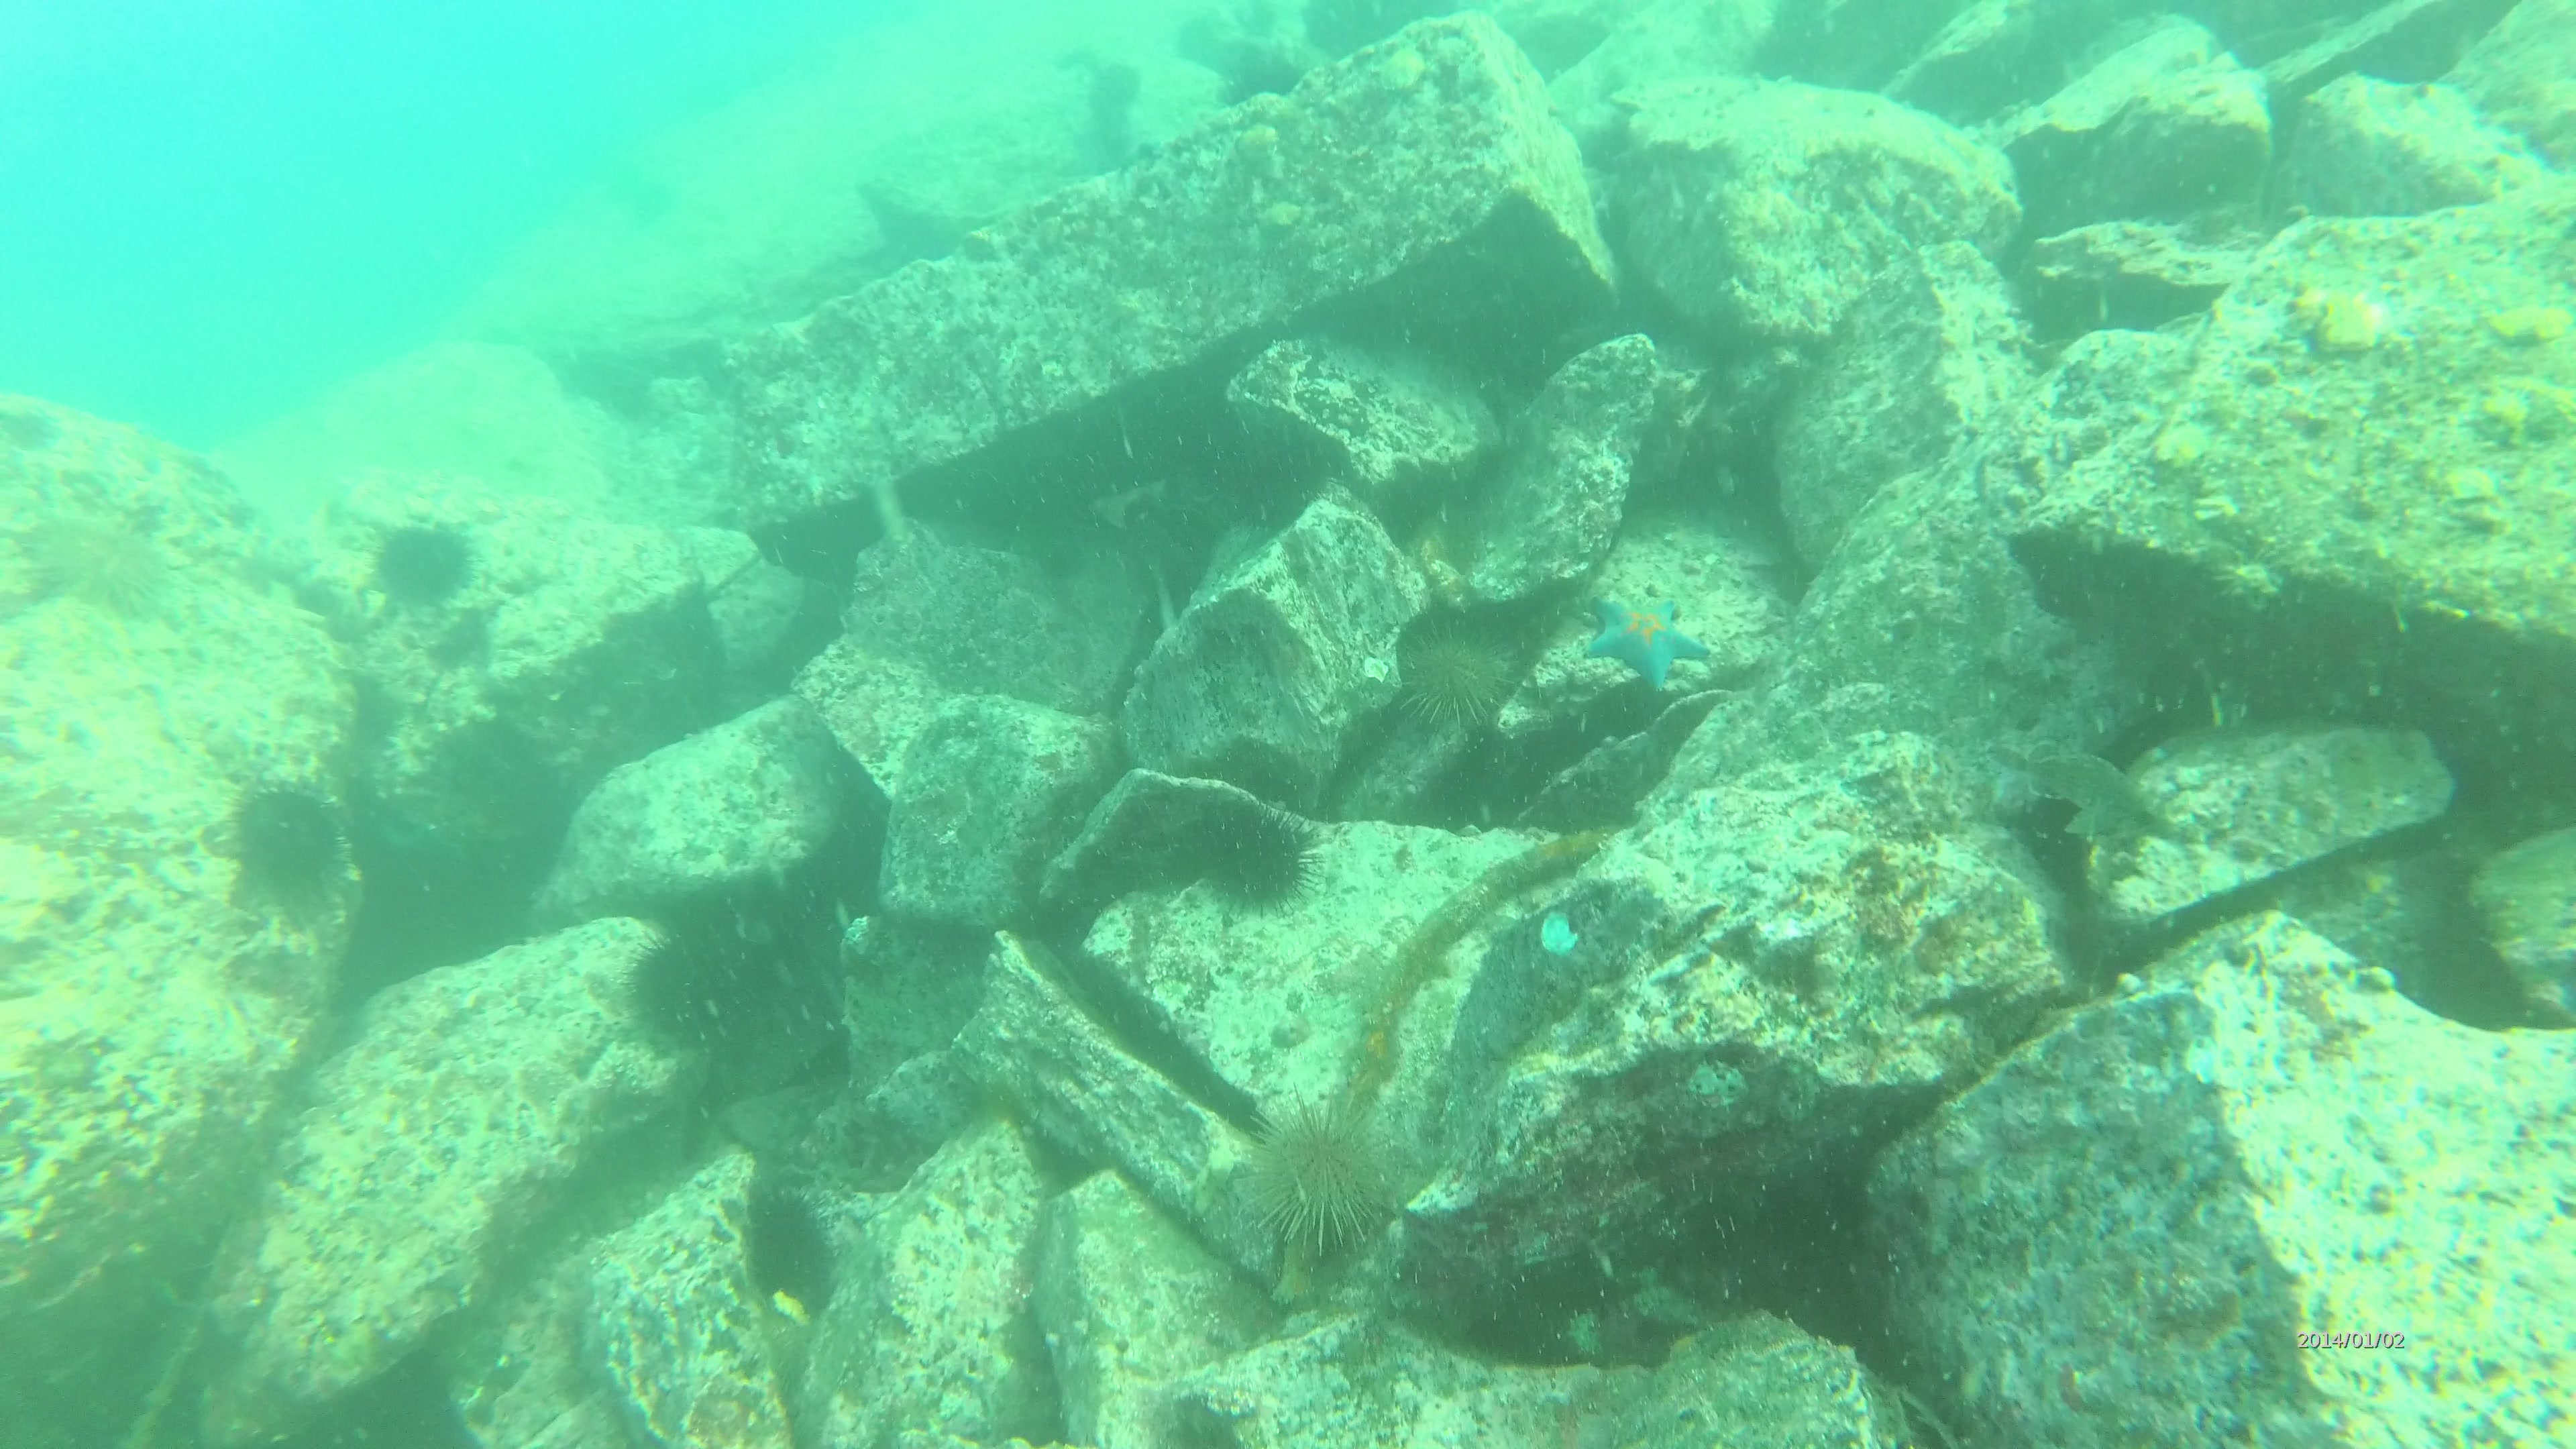echinus: (1238, 1086, 1376, 1244), (23, 476, 170, 619), (1207, 805, 1315, 906), (630, 934, 748, 1021), (228, 786, 336, 879), (363, 511, 471, 600), (736, 1196, 823, 1293)
starfish: (1591, 573, 1714, 678)
